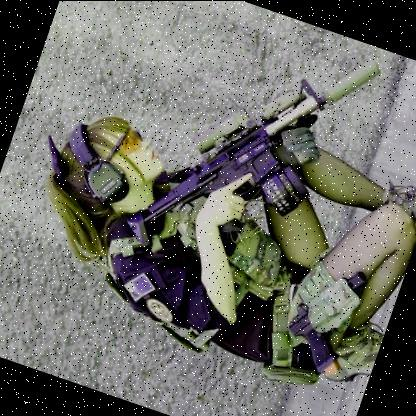rifle: (111, 0, 399, 307), (267, 255, 380, 386)
